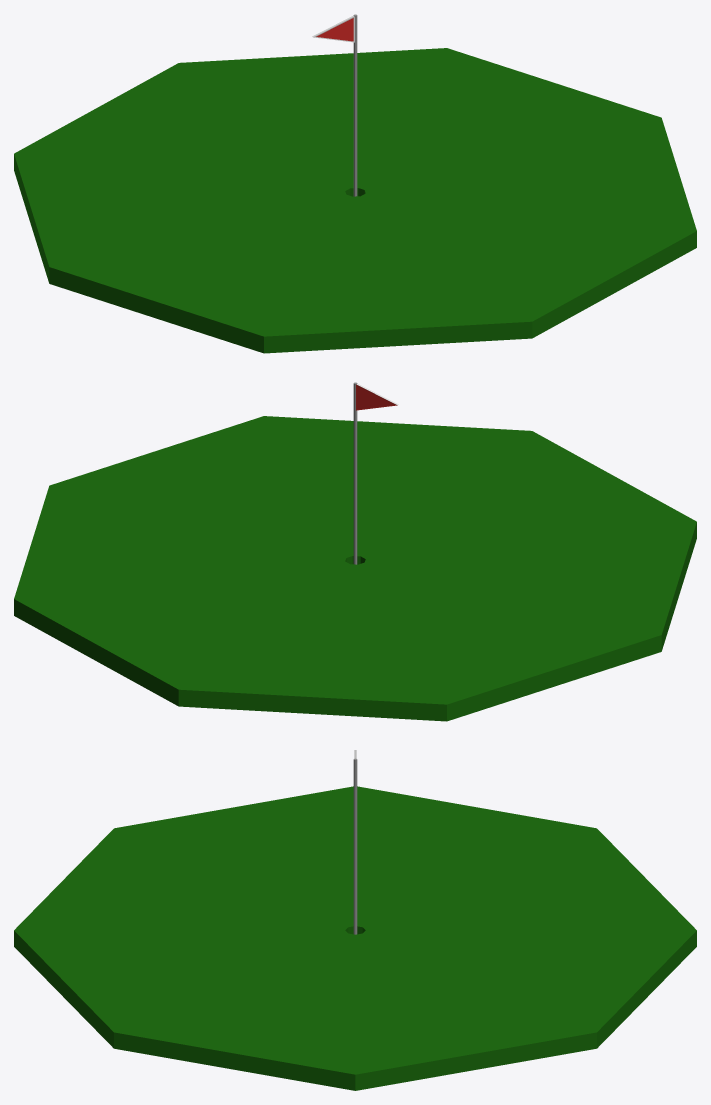
Rendered from Golf Green.fbx.
3 renders of one model, top to bottom at view 1: azimuth 30°, elevation 25°; view 2: azimuth 150°, elevation 25°; view 3: azimuth 270°, elevation 25°, orthographic. The views are drawn at different scales.
Parts seen in each view (by area): view 1: Golf Green, Flag Pole, Flag; view 2: Golf Green, Flag Pole, Flag; view 3: Golf Green, Flag Pole.
Part boxes in pixels (bbox=[...]): Golf Green: bbox=[14, 48, 696, 353]; Flag Pole: bbox=[353, 14, 357, 196]; Flag: bbox=[312, 15, 354, 42]; Golf Green: bbox=[14, 416, 696, 721]; Flag Pole: bbox=[353, 382, 357, 564]; Flag: bbox=[356, 383, 398, 410]; Golf Green: bbox=[14, 786, 696, 1090]; Flag Pole: bbox=[353, 758, 357, 934].
Size of the model in its own units: 3800 by 1150 by 3800.
